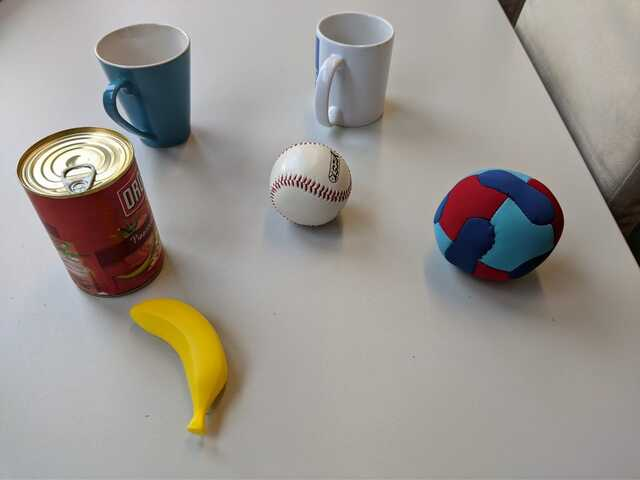005_tomato_soup_can: (16, 126, 169, 299)
011_banana: (128, 298, 234, 441)
025_mug: (93, 23, 195, 149), (311, 12, 395, 126)
055_baseball: (268, 141, 354, 229)
057_racquetball: (430, 167, 567, 283)
